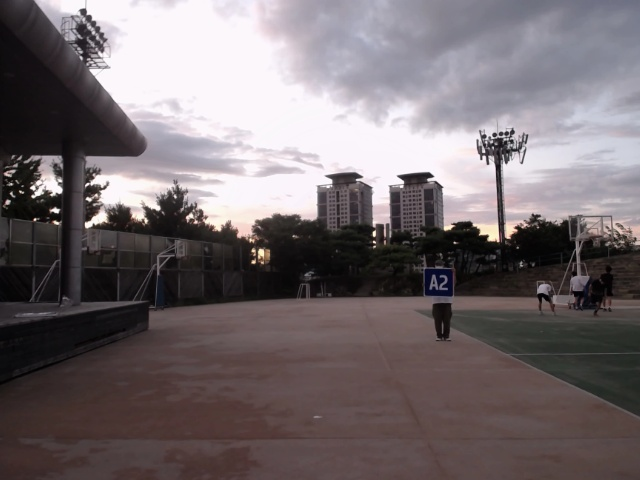delivery_a2: (424, 267, 455, 297)
